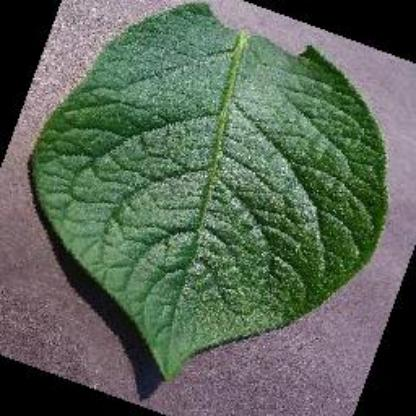Healthy-plant: (22, 2, 396, 392)
